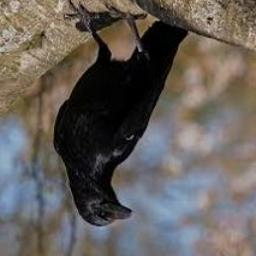Crow: (53, 0, 189, 226)
